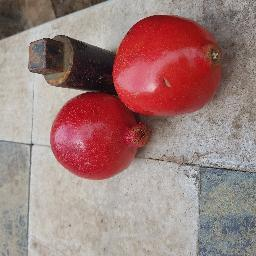Good_pomegranate: (107, 12, 235, 118), (47, 91, 150, 181)
